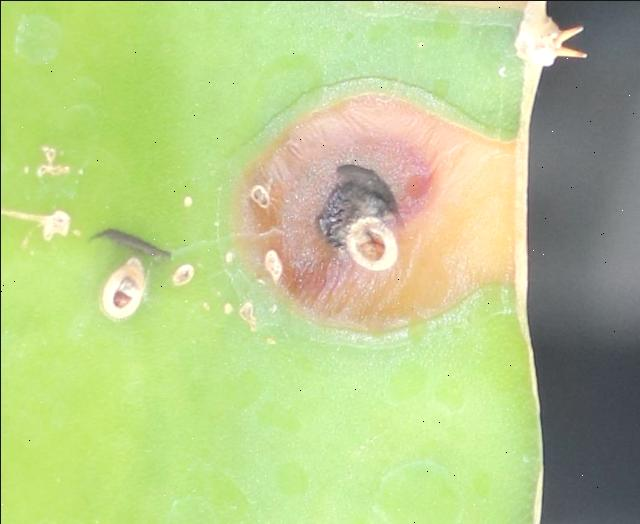stemcanker: (214, 71, 524, 334)
